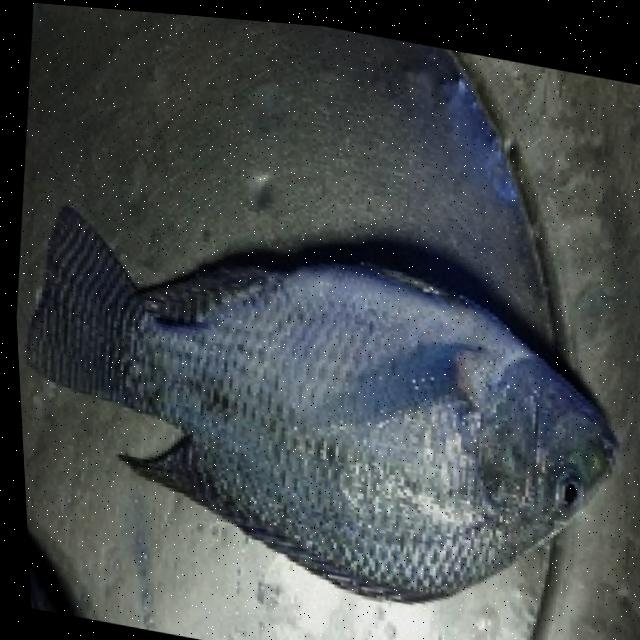Fresh: (55, 183, 640, 640), (538, 447, 587, 512)
